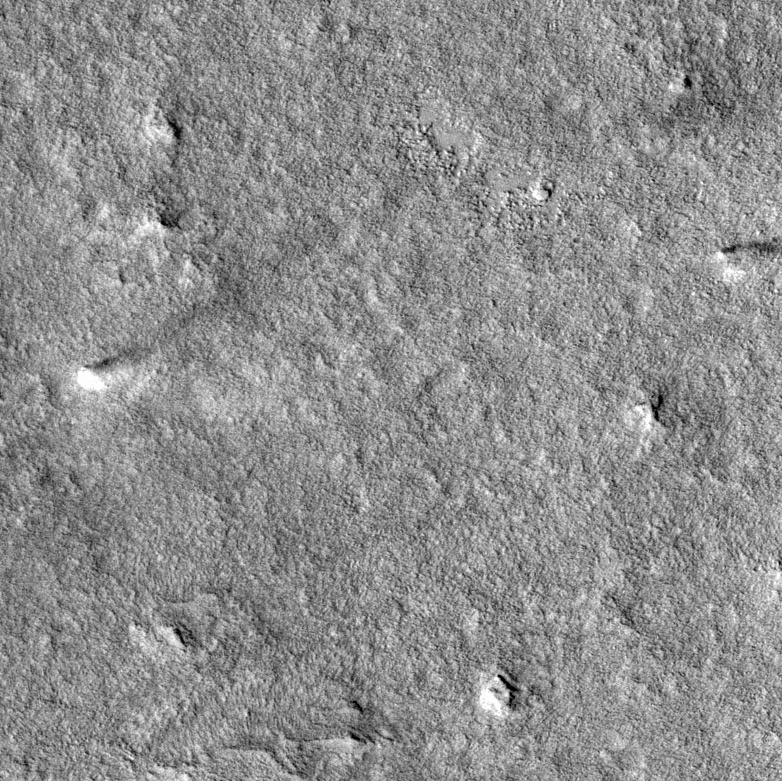dust_devil: (76, 346, 153, 393), (714, 235, 782, 261)
